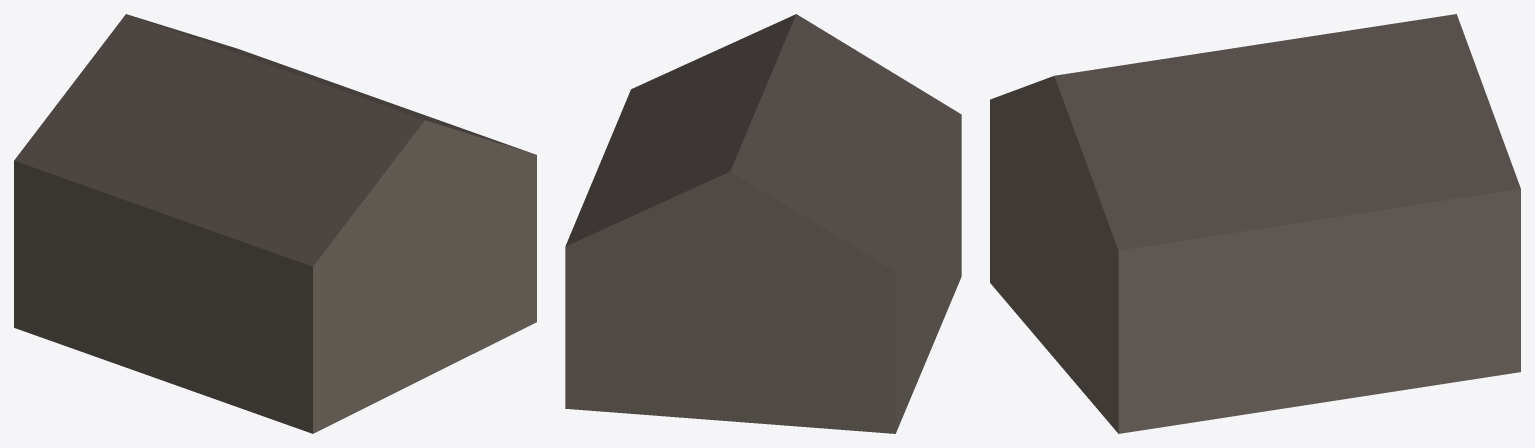
3 renders of one model, left to right at view 1: azimuth 30°, elevation 25°; view 2: azimuth 150°, elevation 25°; view 3: azimuth 270°, elevation 25°, orthographic. The views are drawn at different scales.
Visible parts, largest first — view 1: HP-w859082467; view 2: HP-w859082467; view 3: HP-w859082467.
Part boxes in pixels (left/top/right/bottom): HP-w859082467: left=14, top=14, right=536, bottom=433; HP-w859082467: left=565, top=14, right=961, bottom=433; HP-w859082467: left=990, top=14, right=1520, bottom=433.
Bounding box in the file's own units: 14.95 × 9.26 × 15.76.
